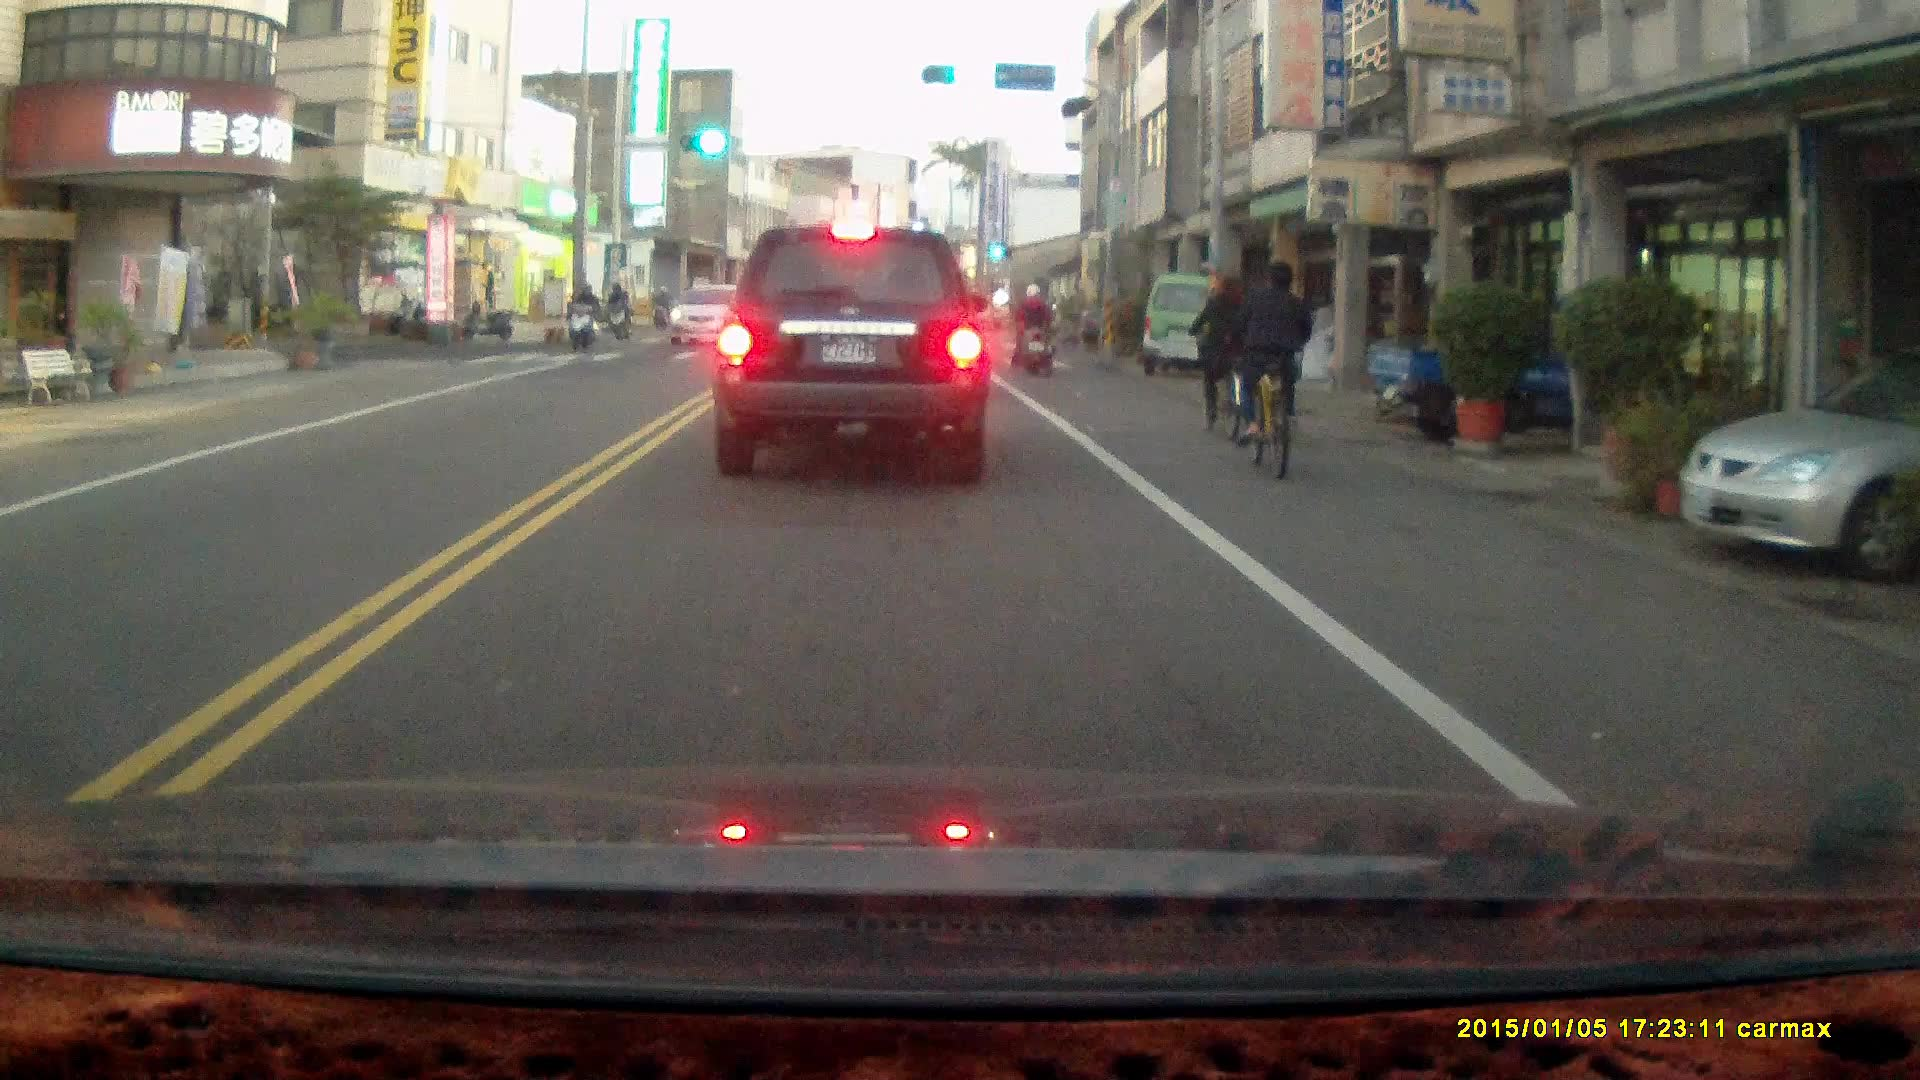pedestrian: (476, 260, 496, 314)
rider: (1227, 257, 1314, 481), (1187, 275, 1250, 442), (1003, 282, 1058, 377), (565, 279, 601, 355), (601, 279, 632, 341), (649, 284, 670, 328)
vehicle: (709, 225, 994, 491), (1677, 345, 1920, 589), (1145, 277, 1244, 374), (662, 282, 763, 352)
